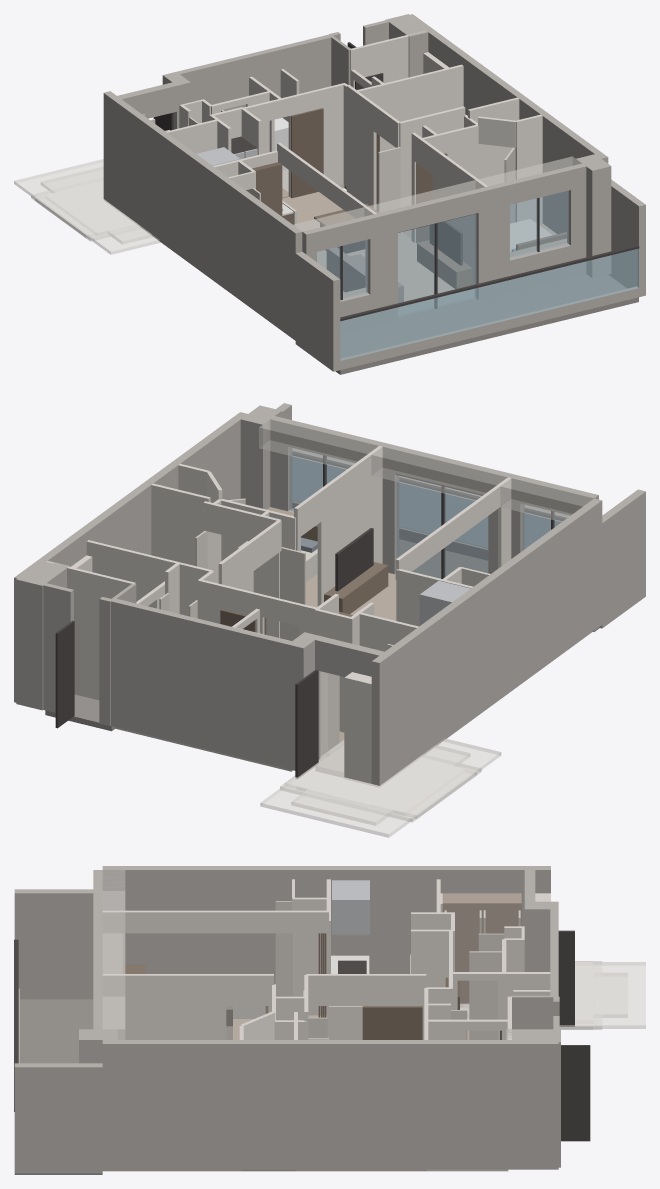
File: BRANZ_S65C_SELECT_PLAN2.glb
The picture shows the model from 3 angles, top to bottom: view 1: azimuth 30°, elevation 25°; view 2: azimuth 150°, elevation 25°; view 3: azimuth 270°, elevation 25°; orthographic projection. The views are drawn at different scales.
Parts seen in each view (by area): view 1: Wall_West_Ext, Balcony_Glass_Rail, Floor_Balcony, Wall_East_Ext, Window_Living_212x219_Glass, Wall_North_Mid, Balcony_Wall_West, Ceiling_Living_Dining_12J, Balcony_Curb_South, Wall_MistBath_South, Wall_Bed3_West_NorthPocket, Balcony_Wall_East (+52 smaller); view 2: Wall_West_Ext, Wall_North_Mid, Soffit_South_Beam, Wall_East_Ext, Ceiling_Living_Dining_12J, Wall_Bed1_West_South, Window_Living_212x219_Glass, Balcony_Wall_West, Balcony_Glass_Rail, Pillar_NE, Wall_TR_South, Wall_Bed3_South_Right (+54 smaller); view 3: Wall_East_Ext, Wall_West_Ext, Balcony_Wall_East, Balcony_Wall_West, Wall_Bed1_West_South, Wall_Bed2_LD_Header, Ceiling_Living_Dining_12J, Floor_Balcony, Shoe_Closet_SC_Body, Soffit_South_Beam, Door_TR_Open, Wall_Bed3_West_NorthPocket (+31 smaller).
Part boxes in pixels (box(x1,y1,x2,y2)): Wall_West_Ext: box(103, 91, 302, 340); Balcony_Glass_Rail: box(340, 248, 638, 360); Floor_Balcony: box(336, 274, 638, 374); Wall_East_Ext: box(406, 14, 608, 233); Window_Living_212x219_Glass: box(398, 214, 476, 316); Wall_North_Mid: box(176, 34, 332, 110); Balcony_Wall_West: box(295, 251, 340, 371); Ceiling_Living_Dining_12J: box(14, 159, 160, 254); Balcony_Curb_South: box(340, 286, 638, 369); Wall_MistBath_South: box(384, 64, 463, 150); Wall_Bed3_West_NorthPocket: box(346, 85, 376, 209); Balcony_Wall_East: box(609, 179, 645, 297); Wall_West_Ext: box(371, 498, 602, 786); Wall_North_Mid: box(110, 598, 291, 768); Soffit_South_Beam: box(259, 419, 593, 521); Wall_East_Ext: box(14, 412, 247, 702); Ceiling_Living_Dining_12J: box(260, 738, 501, 837); Wall_Bed1_West_South: box(317, 446, 382, 606); Window_Living_212x219_Glass: box(396, 475, 488, 578); Balcony_Wall_West: box(599, 489, 645, 628); Balcony_Glass_Rail: box(292, 457, 560, 548); Pillar_NE: box(16, 560, 69, 710); Wall_TR_South: box(46, 561, 135, 700); Wall_Bed3_South_Right: box(151, 483, 210, 565); Wall_East_Ext: box(102, 1040, 558, 1169); Wall_West_Ext: box(102, 866, 550, 984); Balcony_Wall_East: box(14, 1063, 102, 1173); Balcony_Wall_West: box(14, 889, 93, 999); Wall_Bed1_West_South: box(102, 974, 226, 1039); Wall_Bed2_LD_Header: box(122, 910, 328, 933); Ceiling_Living_Dining_12J: box(460, 962, 645, 1028); Floor_Balcony: box(14, 999, 102, 1174); Shoe_Closet_SC_Body: box(442, 893, 521, 1004); Soffit_South_Beam: box(102, 870, 125, 1039); Door_TR_Open: box(561, 1045, 590, 1141); Wall_Bed3_West_NorthPocket: box(362, 974, 426, 1039).
Bounding box in the file's own units: 9.54 × 2.9 × 12.32.
